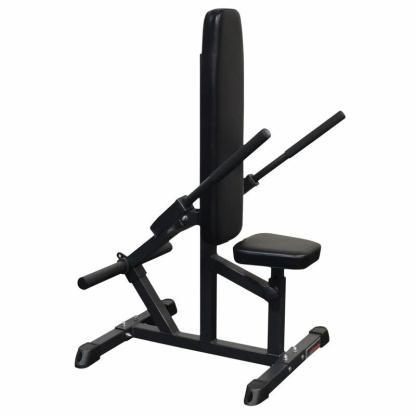seated dip machine: (75, 7, 348, 406)
